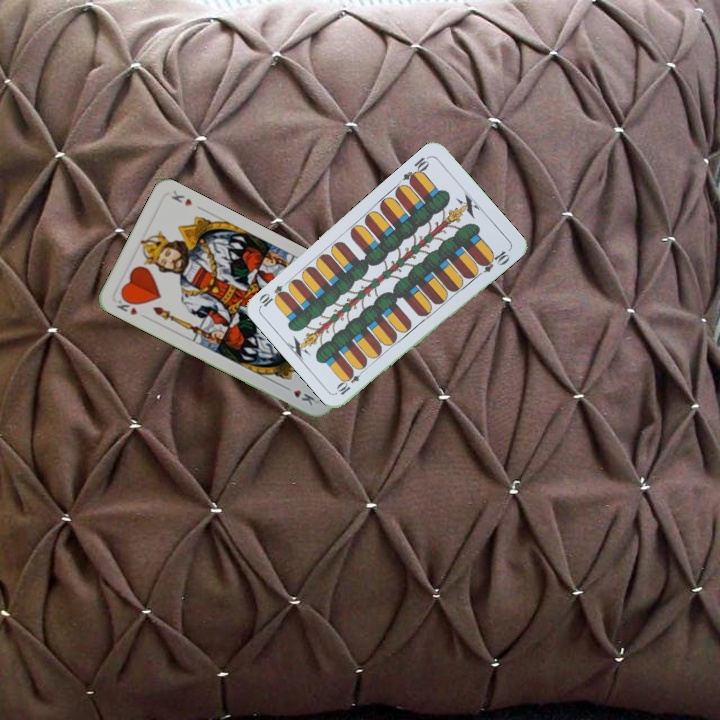E10: (333, 364, 368, 398), (399, 152, 432, 187)
HK: (112, 293, 140, 318)
